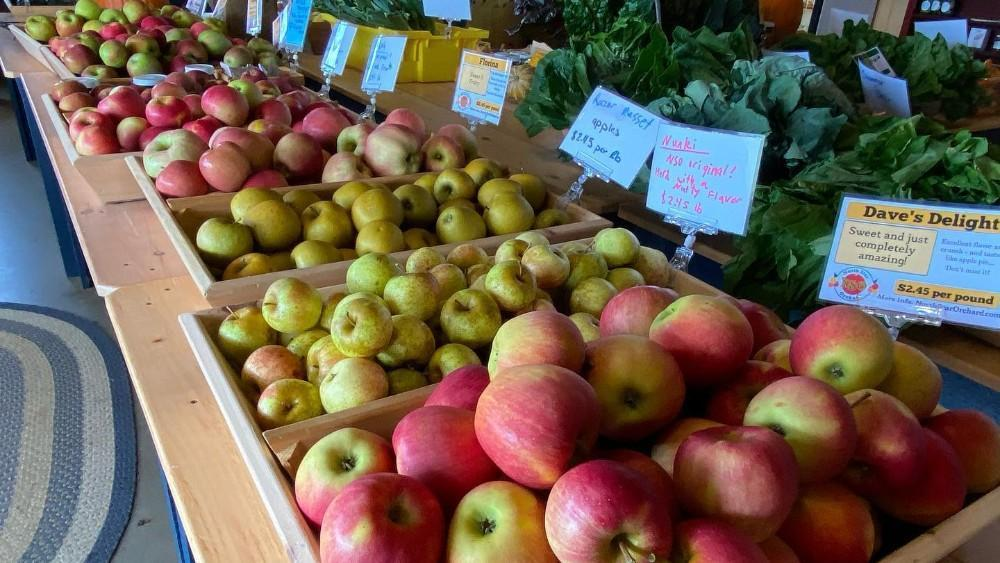apple: (473, 364, 601, 490), (669, 424, 799, 543), (545, 455, 675, 560), (744, 376, 856, 484), (319, 472, 448, 563), (584, 332, 685, 441), (648, 292, 754, 388), (290, 431, 396, 523), (791, 305, 894, 395), (844, 391, 927, 496), (447, 481, 551, 560), (488, 308, 586, 383), (791, 482, 875, 563), (256, 379, 324, 430), (365, 124, 423, 175), (198, 139, 250, 191), (272, 130, 320, 175), (200, 85, 248, 126), (156, 158, 205, 197), (321, 151, 371, 183), (420, 135, 466, 168), (145, 94, 187, 126), (96, 91, 142, 120), (76, 126, 116, 154)
